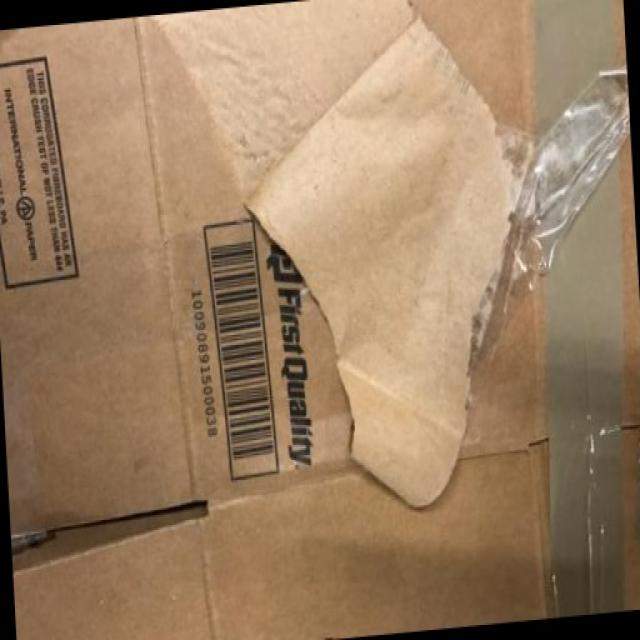carton: (27, 43, 602, 637)
